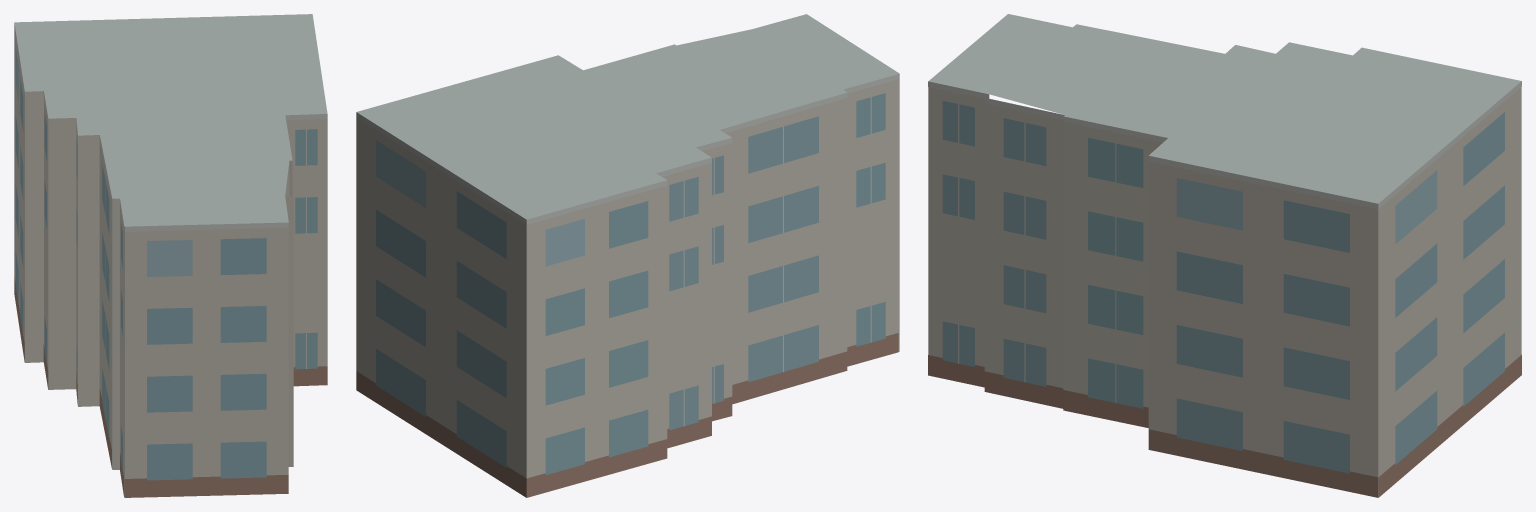
The model's file is survey-upis-32966286.glb.
The picture shows the model from 3 angles, left to right: view 1: azimuth 30°, elevation 25°; view 2: azimuth 150°, elevation 25°; view 3: azimuth 270°, elevation 25°; orthographic projection. The views are drawn at different scales.
Visible parts, largest first — view 1: survey-upis-32966286.tmp; view 2: survey-upis-32966286.tmp; view 3: survey-upis-32966286.tmp.
Part boxes in pixels (bbox=[...]): survey-upis-32966286.tmp: bbox=[14, 14, 327, 497]; survey-upis-32966286.tmp: bbox=[356, 14, 899, 497]; survey-upis-32966286.tmp: bbox=[928, 14, 1521, 497].
Bounding box in the file's own units: 17.78 × 12.84 × 23.5.
